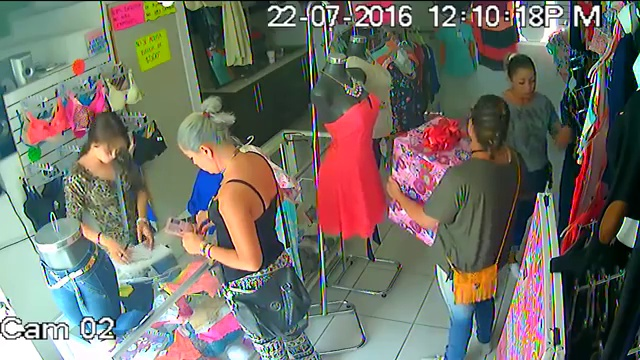face: (90, 135, 125, 166), (183, 140, 216, 172), (511, 67, 536, 97)
